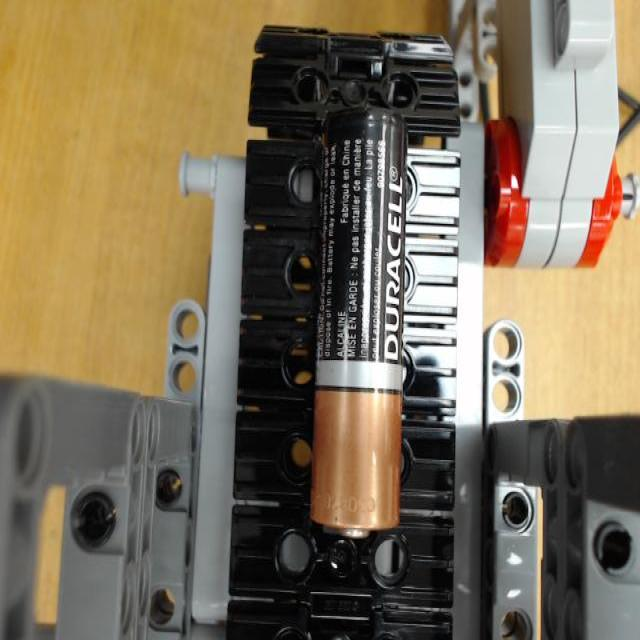AA: (310, 106, 408, 538)
